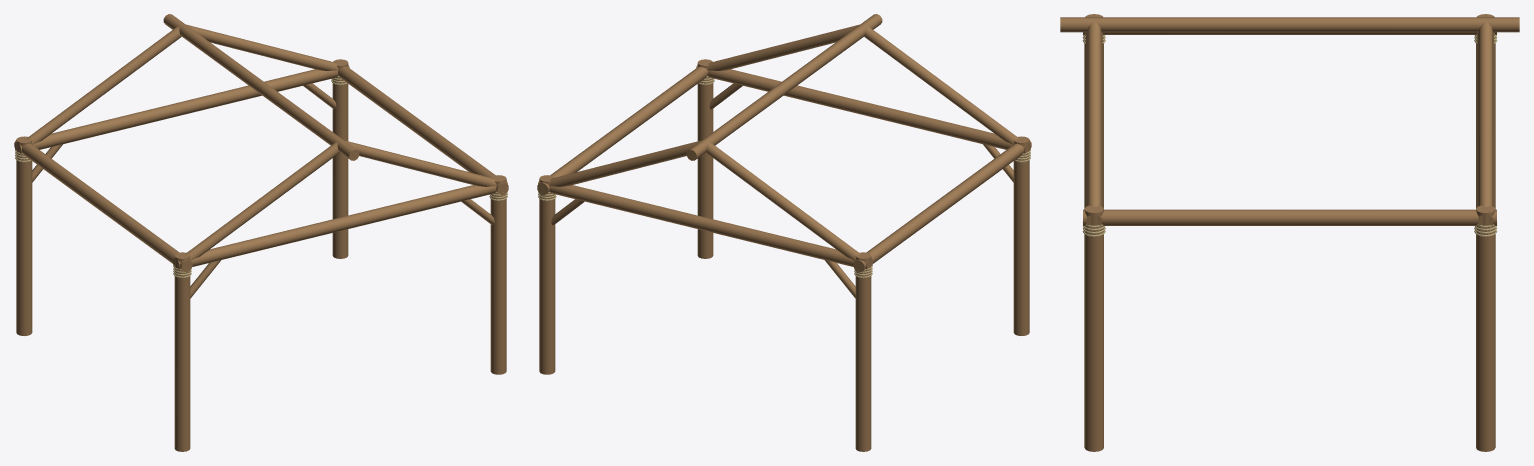
The picture shows the model from 3 angles, left to right: view 1: azimuth 30°, elevation 25°; view 2: azimuth 150°, elevation 25°; view 3: azimuth 270°, elevation 25°; orthographic projection. The views are drawn at different scales.
Parts seen in each view (by area): view 1: Mesh_warm-timber; view 2: Mesh_warm-timber; view 3: Mesh_warm-timber, Mesh_rope-binding.
Boxes of the visible parts, box(x1,y1,x2,y2) form: Mesh_warm-timber: box(14, 14, 508, 451); Mesh_warm-timber: box(537, 14, 1031, 451); Mesh_warm-timber: box(1060, 14, 1519, 451); Mesh_rope-binding: box(1082, 33, 1497, 236).
Bounding box in the file's own units: 6.31 × 4.9 × 6.1.
